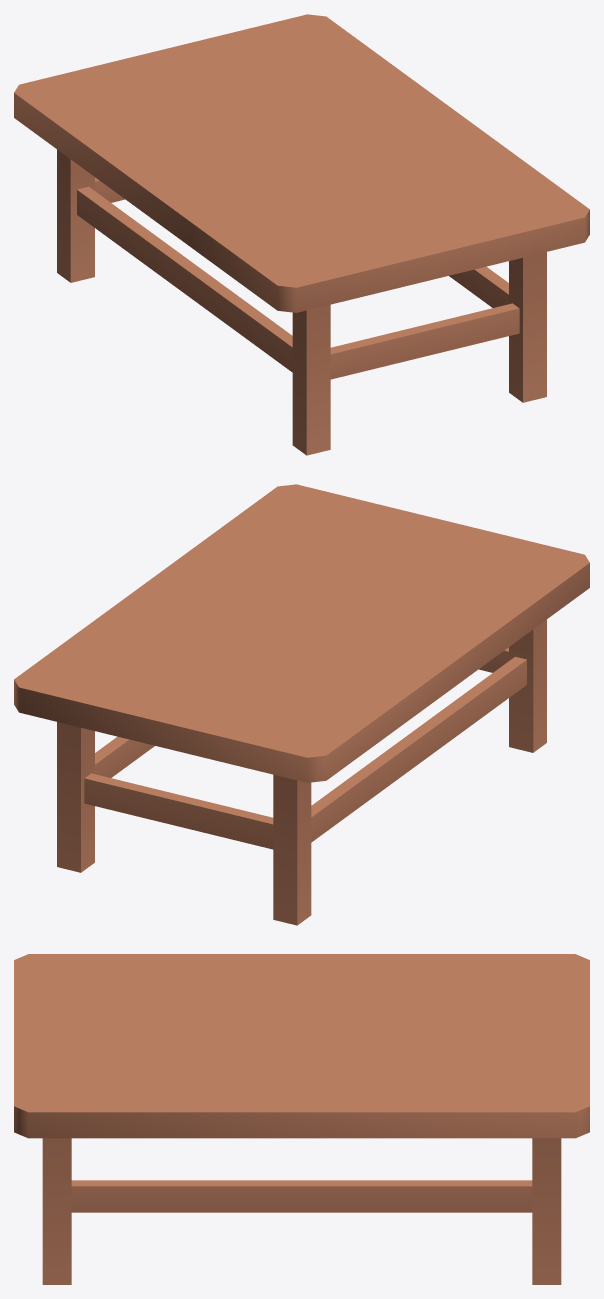
Rendered from stall.glb.
3 views of the same model, one above another, from view 1: azimuth 30°, elevation 25°; view 2: azimuth 150°, elevation 25°; view 3: azimuth 270°, elevation 25° (orthographic). The views are drawn at different scales.
Visible parts, largest first — view 1: stall; view 2: stall; view 3: stall.
Part boxes in pixels (<box>): stall: <box>14,14,589,455</box>; stall: <box>14,484,589,925</box>; stall: <box>14,954,589,1284</box>.
Bounding box in the file's own units: 0.65 × 0.3655 × 1.
1 material, 1 textured.
